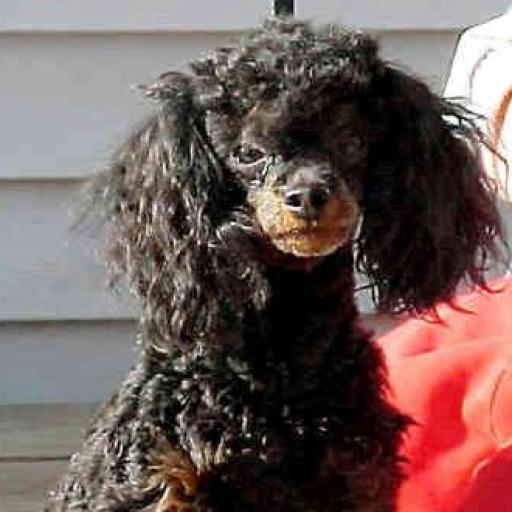dog_face: (93, 45, 444, 314)
